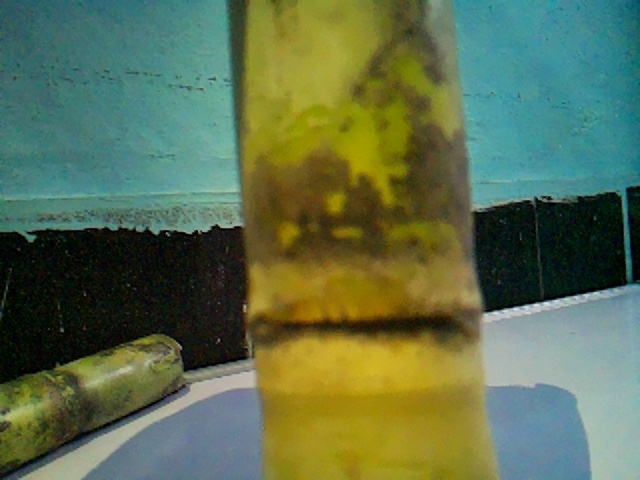Good Sugarcane: (225, 0, 502, 471)
Node: (232, 245, 499, 405)
